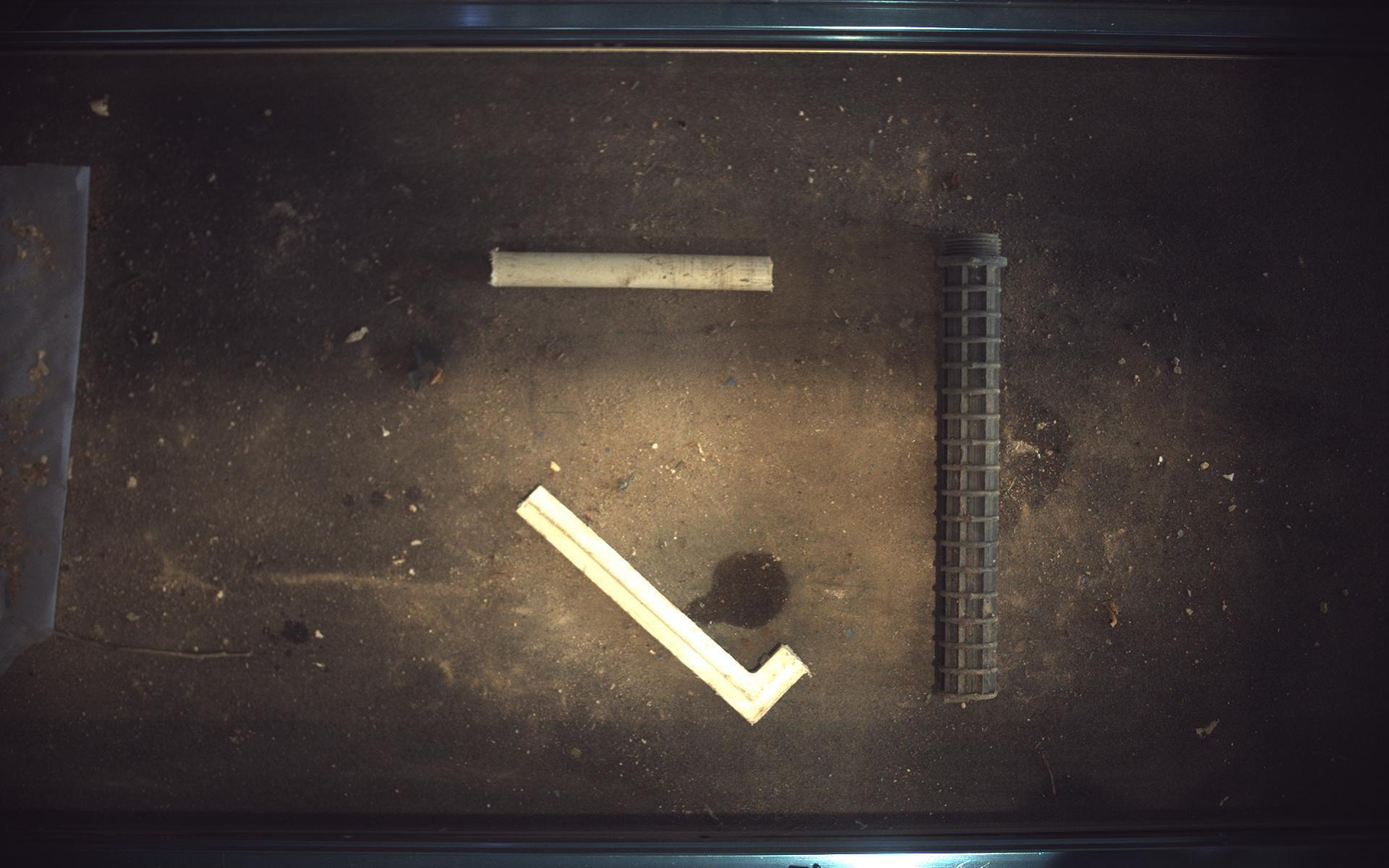pipes: (491, 249, 774, 291)
plastic: (517, 487, 810, 725), (936, 233, 1009, 702)
